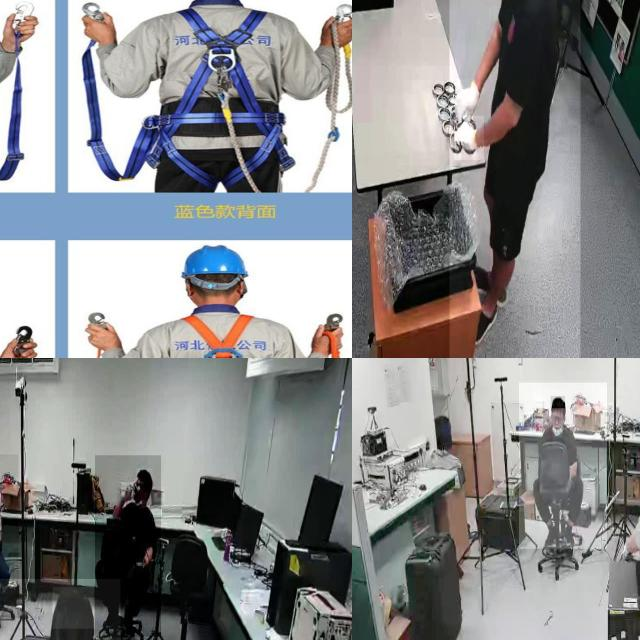Harness: (163, 3, 282, 165), (168, 313, 282, 358)
face_nomask: (551, 413, 564, 435), (134, 484, 146, 501)
hand_glove: (448, 79, 482, 120), (454, 116, 484, 161)
hand_noglove: (122, 482, 134, 502)
head_nohelmet: (52, 587, 94, 629), (136, 468, 153, 484), (550, 396, 566, 409)
person: (449, 0, 580, 358), (519, 382, 607, 550), (95, 456, 161, 638), (615, 411, 640, 640), (0, 454, 19, 617)
shoes: (469, 264, 509, 308), (468, 292, 498, 346), (540, 522, 556, 548), (562, 522, 577, 548)
